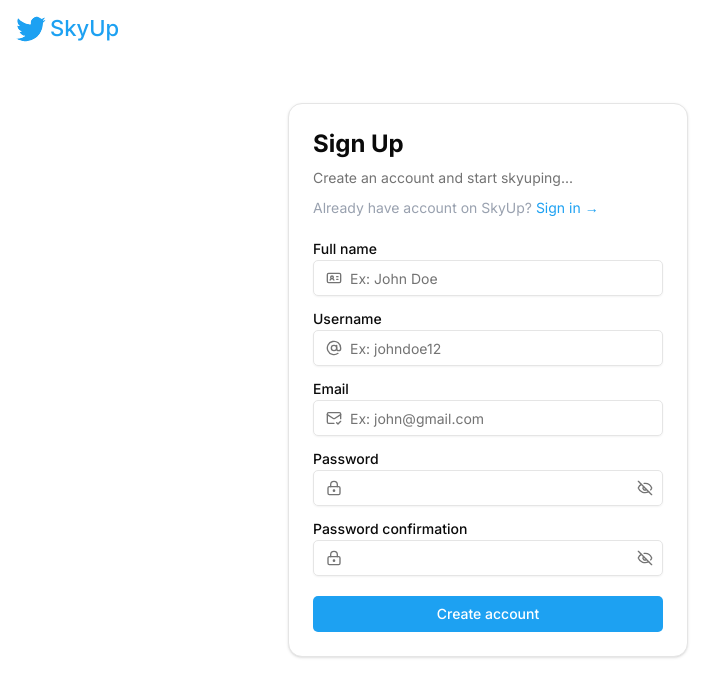
Scenario: SignUp page › shows name error when name is cleared after typing
In the field labelled "Full name": (502, 278) left=342, top=260, right=662, bottom=296, type "A"
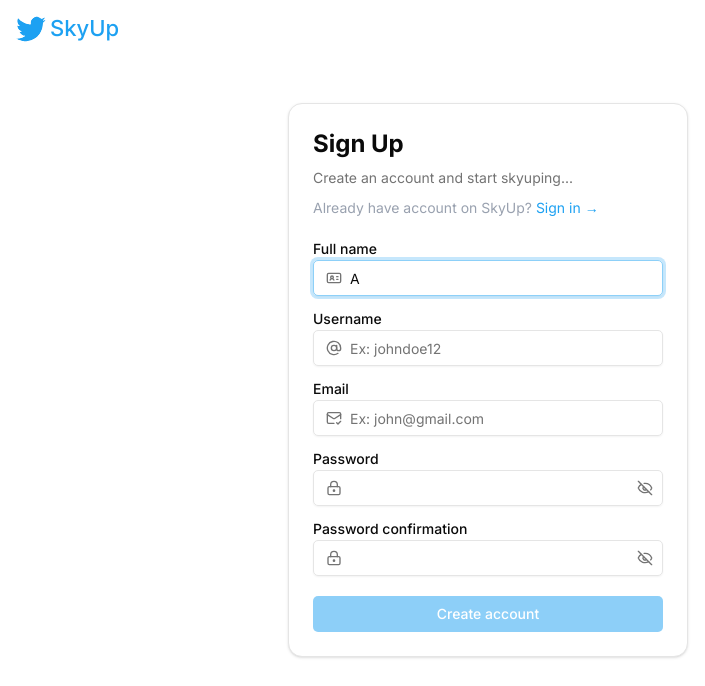
Clear the field labelled "Full name": (502, 278) left=342, top=260, right=662, bottom=296
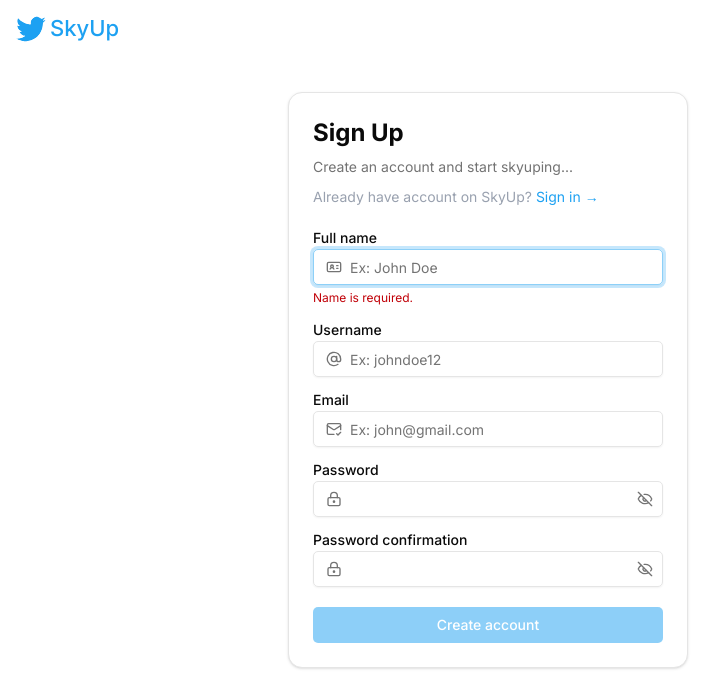
Expected: the text "Name is required." is shown, left=313, top=290, right=413, bottom=305
